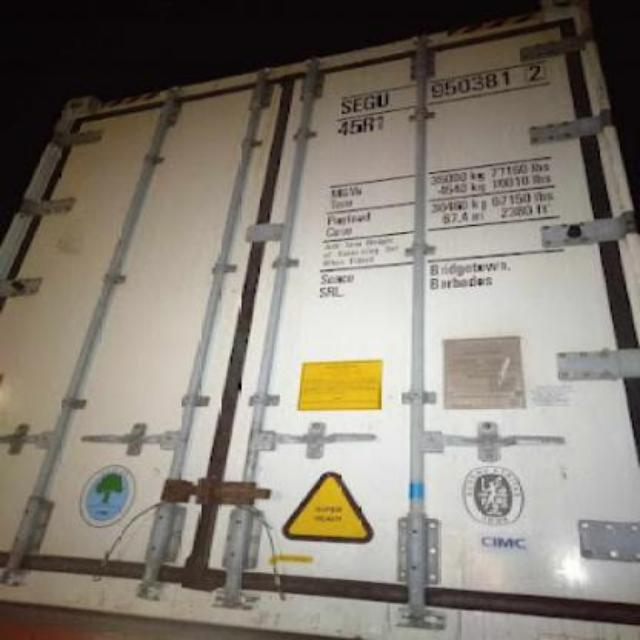0: (456, 72, 468, 98)
1: (501, 66, 514, 90)
2: (520, 60, 550, 84)
3: (471, 68, 484, 94)
5: (442, 75, 458, 102)
8: (482, 67, 498, 93)
9: (428, 80, 442, 100)
E: (352, 94, 364, 115)
G: (362, 84, 376, 112)
S: (338, 94, 350, 116)
U: (374, 84, 390, 112)
